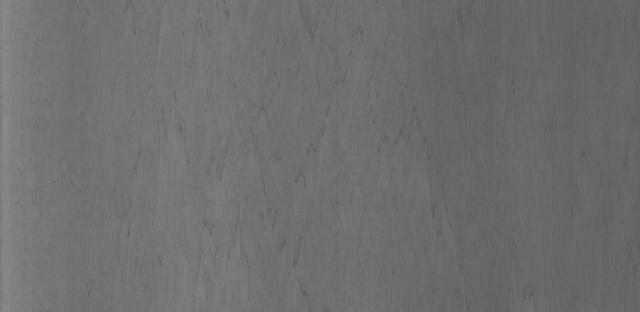silk_spot: (199, 88, 364, 242)
